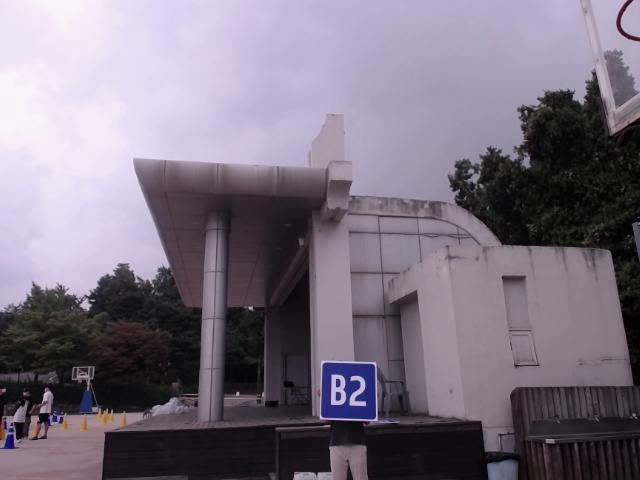delivery_b2: (322, 360, 378, 420)
